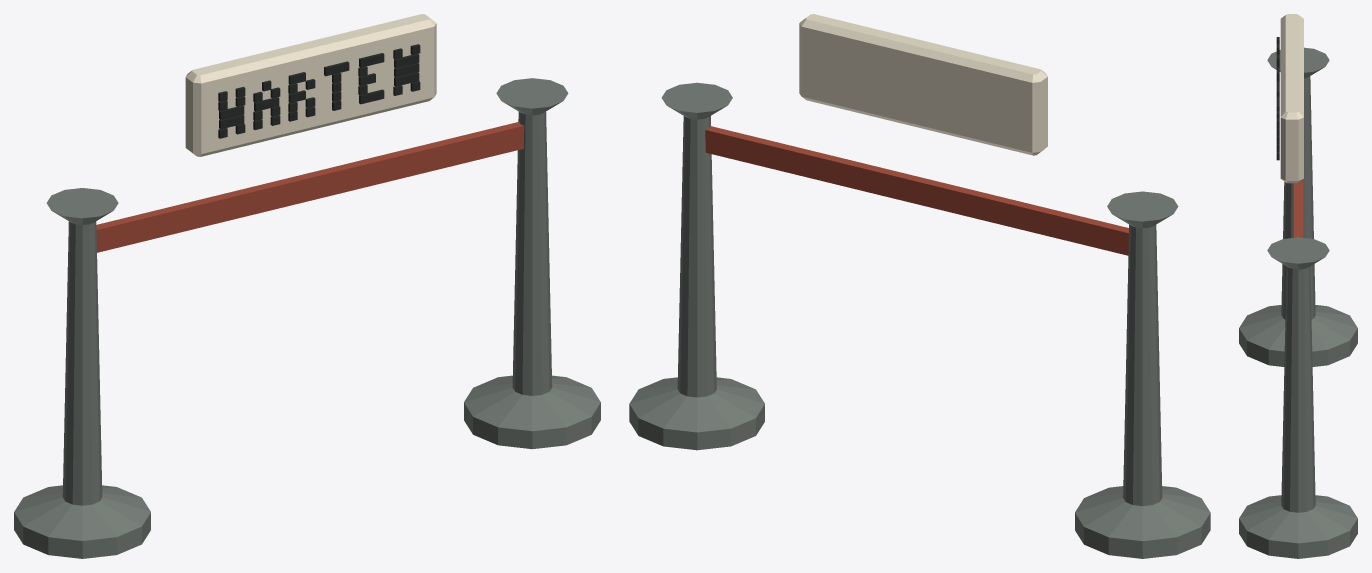
The model's file is queue-barrier.glb.
The picture shows the model from 3 angles, left to right: view 1: azimuth 30°, elevation 25°; view 2: azimuth 150°, elevation 25°; view 3: azimuth 270°, elevation 25°; orthographic projection. The views are drawn at different scales.
Visible parts, largest first — view 1: queue-barrier; view 2: queue-barrier; view 3: queue-barrier.
Part boxes in pixels (x1,y1,x2,y2): queue-barrier: (14, 14, 600, 558); queue-barrier: (629, 14, 1210, 558); queue-barrier: (1239, 14, 1357, 558).
Bounding box in the file's own units: 1.82 × 1.33 × 0.38.
